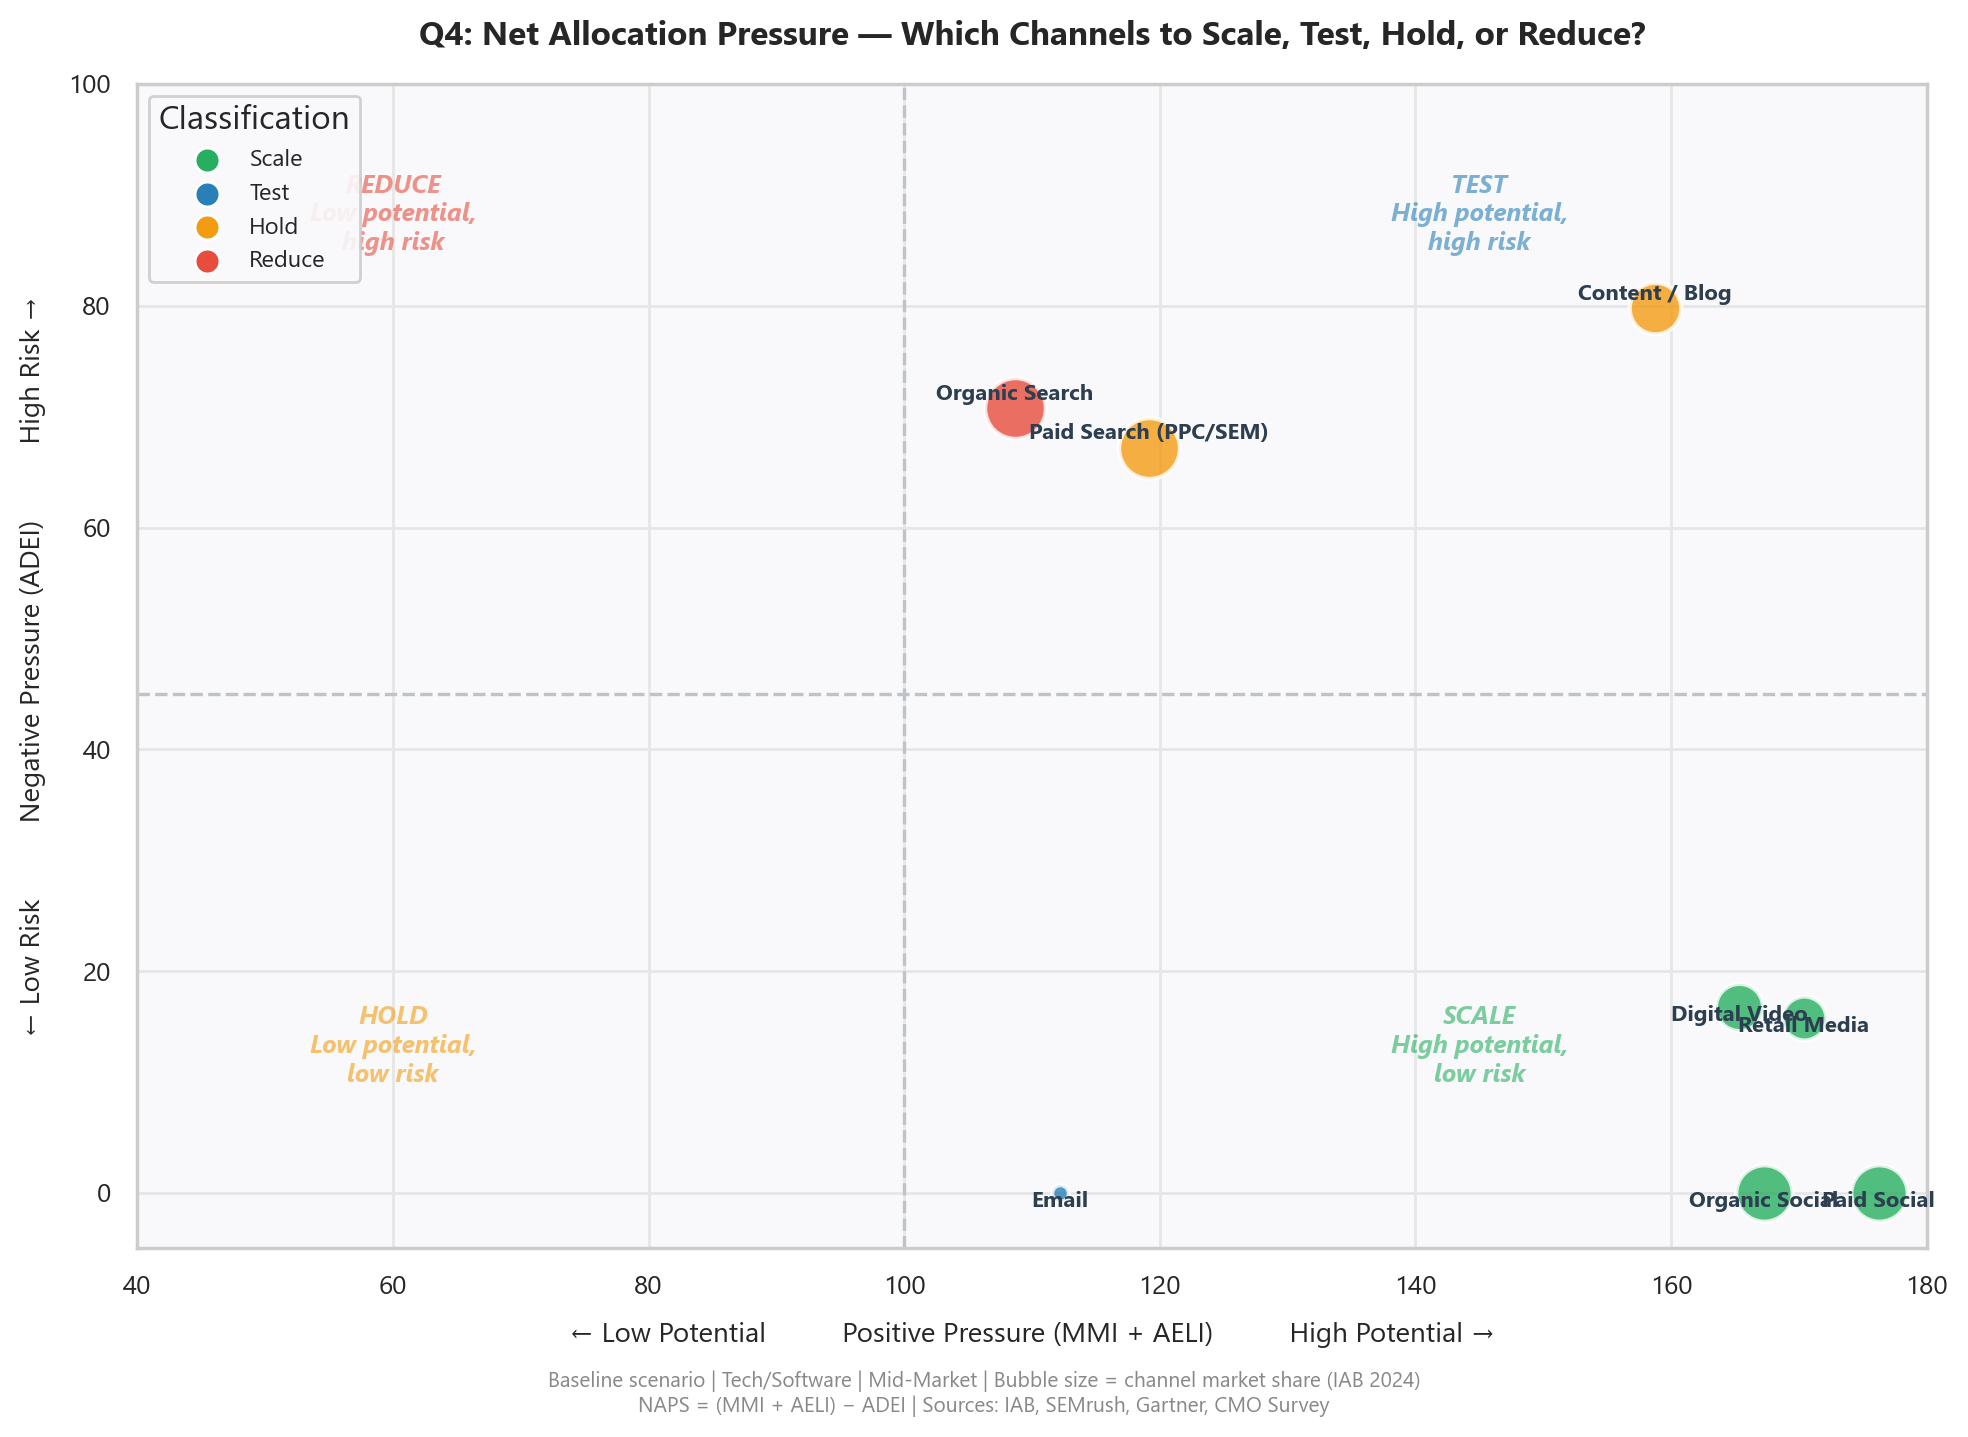

What the dashboard file says about the page in this screenshot:
{"tool":"tableau","page":{"name":"Net Allocation Pressure","canvas":[1280,800],"ordinal":0},"visuals":[{"type":"sheet","title":"Sheet 1","box":[32,20,1216,760]}]}

Visuals, with their boxes on the page's 1280x800 design canvas (x1, y1, x2, y2). These are canvas units, not pixel positions in the 1968x1437 screenshot, which may show the page scaled, cropped or inside an application window:
"Sheet 1" sheet: Rect(32, 20, 1248, 780)
